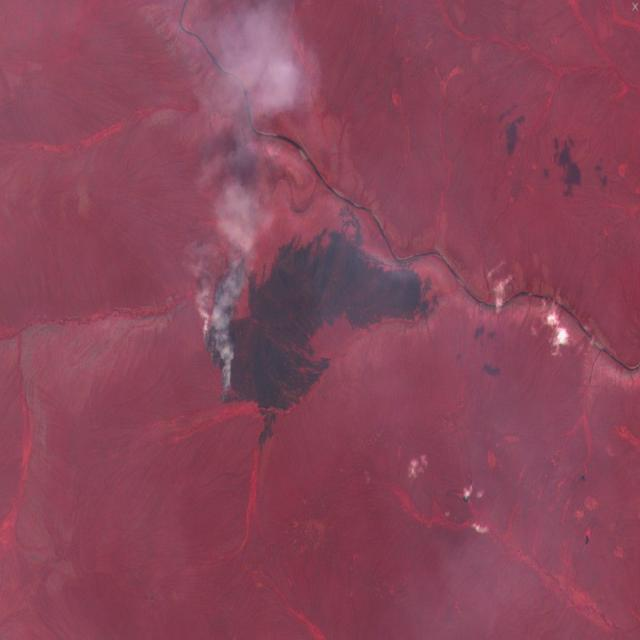fire: (194, 251, 269, 412)
